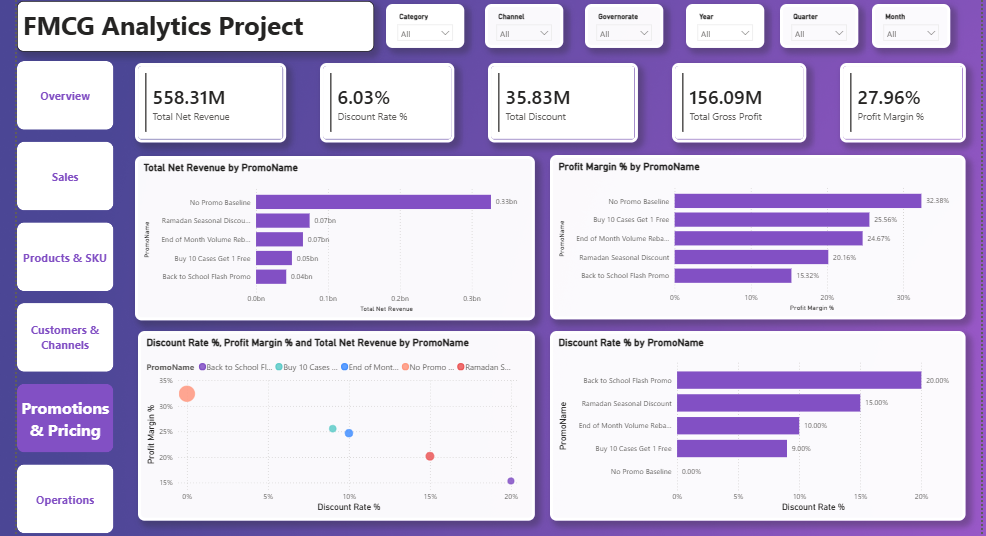

What the dashboard file says about the page in this screenshot:
{"tool":"powerbi","page":{"name":"Promotions & Pricing","canvas":[1600,900],"ordinal":4},"visuals":[{"type":"cardVisual","fields":{"Data":["_Measures.Total Net Revenue"]},"box":[195.7,115.2,250.6,131.7],"z":0},{"type":"cardVisual","fields":{"Data":["_Measures.Total Gross Profit"]},"box":[1087,115.2,223.2,131.7],"z":1000},{"type":"cardVisual","fields":{"Data":["_Measures.Profit Margin %"]},"box":[1366.5,115.2,208.5,131.7],"z":2000},{"type":"cardVisual","fields":{"Data":["_Measures.Discount Rate %"]},"box":[502.6,115.2,223.2,131.7],"z":3000},{"type":"cardVisual","fields":{"Data":["_Measures.Total Discount"]},"box":[782,115.2,248.8,131.7],"z":4000},{"type":"scatterChart","fields":{"Series":["dim_promotions.PromoName"],"Size":["_Measures.Total Net Revenue"],"X":["_Measures.Discount Rate %"],"Y":["_Measures.Profit Margin %"]},"box":[201.2,559.8,658.5,314.6],"z":5000},{"type":"clusteredBarChart","fields":{"Category":["dim_promotions.PromoName"],"Y":["_Measures.Total Net Revenue"]},"box":[195.7,268.9,664,272.6],"z":6000},{"type":"clusteredBarChart","fields":{"Category":["dim_promotions.PromoName"],"Y":["_Measures.Discount Rate %"]},"box":[885.4,559.8,689.6,314.6],"z":7000},{"type":"clusteredBarChart","fields":{"Category":["dim_promotions.PromoName"],"Y":["_Measures.Profit Margin %"]},"box":[885.4,267.1,689.6,272.6],"z":8000},{"type":"slicer","fields":{"Values":["dim_calender.Year"]},"box":[1110.4,16.5,130.2,73.2],"z":8001},{"type":"slicer","fields":{"Values":["dim_calender.Quarter"]},"box":[1267.7,16.5,130.2,73.2],"z":8002},{"type":"slicer","fields":{"Values":["dim_calender.Month"]},"box":[1419.5,16.5,130.2,73.2],"z":8003},{"type":"slicer","fields":{"Values":["dim_customers.Governorate"]},"box":[943.9,16.5,130.2,73.2],"z":8004},{"type":"slicer","fields":{"Values":["dim_channels.ChannelName"]},"box":[777.4,16.5,130.2,73.2],"z":8005},{"type":"slicer","fields":{"Values":["dim_products.Category"]},"box":[612.8,16.5,130.2,73.2],"z":8006},{"type":"textbox","box":[0,11,592.7,84.1],"z":8007},{"type":"pageNavigator","box":[0,111.6,161,786.6],"z":8008}]}

Visuals, with their boxes in screenshot pixels (x1, y1, x2, y2):
cardVisual - _Measures.Total Net Revenue: [132,60,285,140]
cardVisual - _Measures.Total Gross Profit: [676,60,812,140]
cardVisual - _Measures.Profit Margin %: [846,60,973,140]
cardVisual - _Measures.Discount Rate %: [319,60,455,140]
cardVisual - _Measures.Total Discount: [490,60,641,140]
scatterChart - dim_promotions.PromoName x _Measures.Total Net Revenue: [136,331,537,523]
clusteredBarChart - dim_promotions.PromoName x _Measures.Total Net Revenue: [132,154,537,320]
clusteredBarChart - dim_promotions.PromoName x _Measures.Discount Rate %: [553,331,973,523]
clusteredBarChart - dim_promotions.PromoName x _Measures.Profit Margin %: [553,153,973,319]
slicer - dim_calender.Year: [690,0,769,44]
slicer - dim_calender.Quarter: [786,0,865,44]
slicer - dim_calender.Month: [878,0,958,44]
slicer - dim_customers.Governorate: [588,0,668,44]
slicer - dim_channels.ChannelName: [487,0,566,44]
slicer - dim_products.Category: [386,0,466,44]
textbox: [13,0,374,48]
pageNavigator: [13,58,111,535]
